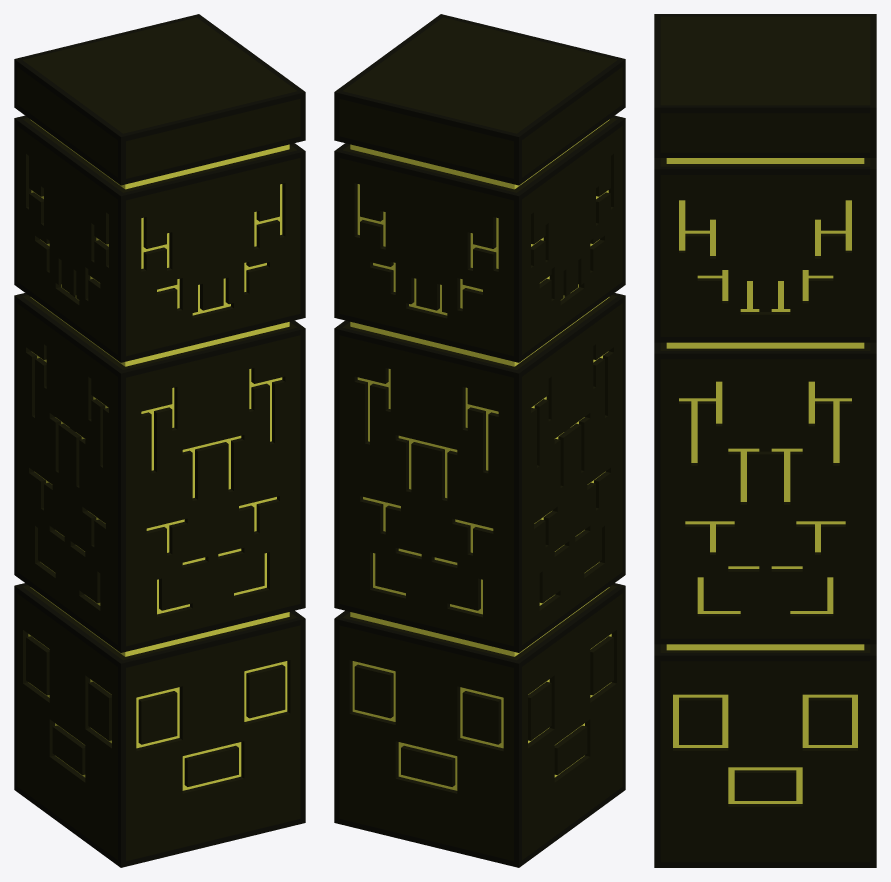
File: Yellow Trial Altar.fbx
The picture shows the model from 3 angles, left to right: view 1: azimuth 30°, elevation 25°; view 2: azimuth 150°, elevation 25°; view 3: azimuth 270°, elevation 25°; orthographic projection. The views are drawn at different scales.
Parts seen in each view (by area): view 1: Yellow Trial Altar; view 2: Yellow Trial Altar; view 3: Yellow Trial Altar.
Boxes of the visible parts, x1,y1,x2,y2 form: Yellow Trial Altar: (14, 14, 305, 867); Yellow Trial Altar: (334, 14, 625, 867); Yellow Trial Altar: (654, 14, 876, 867).
Bounding box in the file's own units: 0.72 × 0.72 × 2.72.
1 material, 1 textured.
